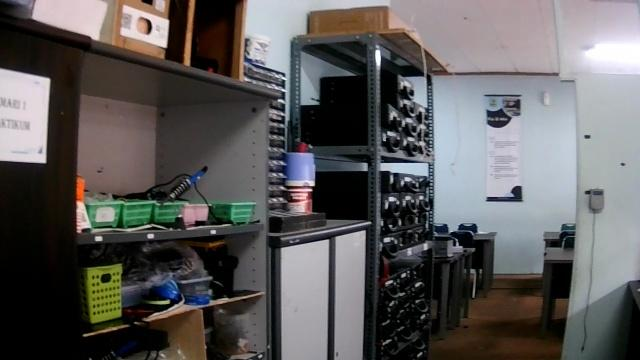Lemari: (266, 217, 373, 359)
Rak: (73, 38, 281, 359), (291, 30, 435, 359)
